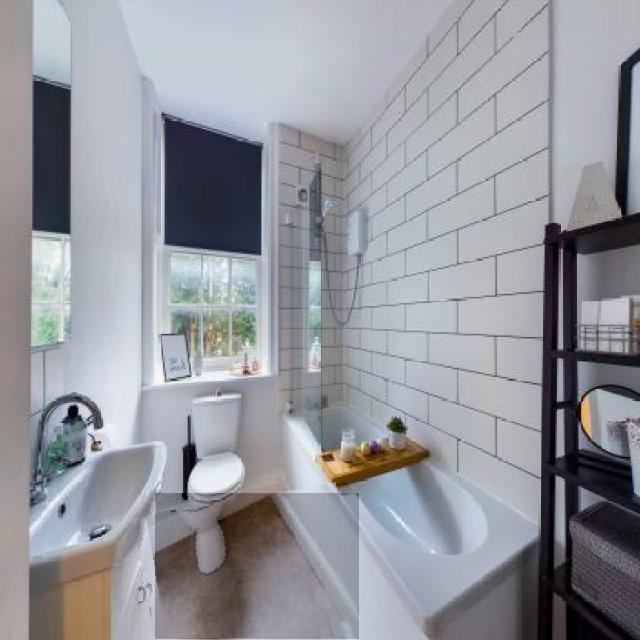floor: (156, 493, 359, 639)
